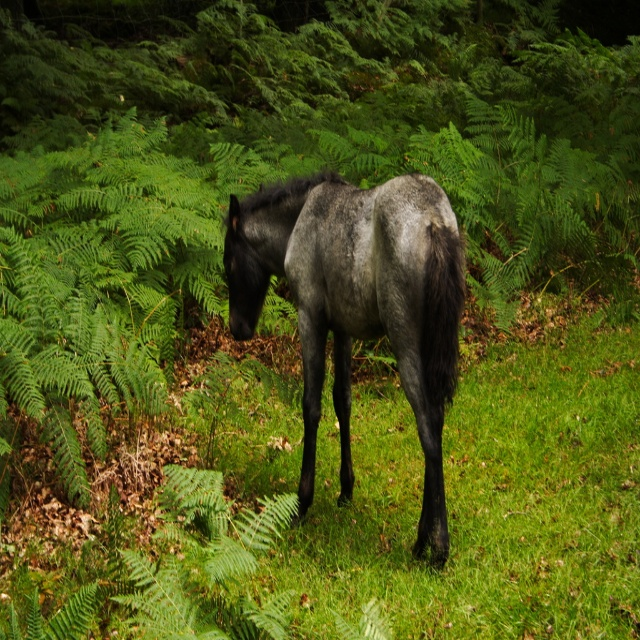Horse: (220, 167, 466, 576)
